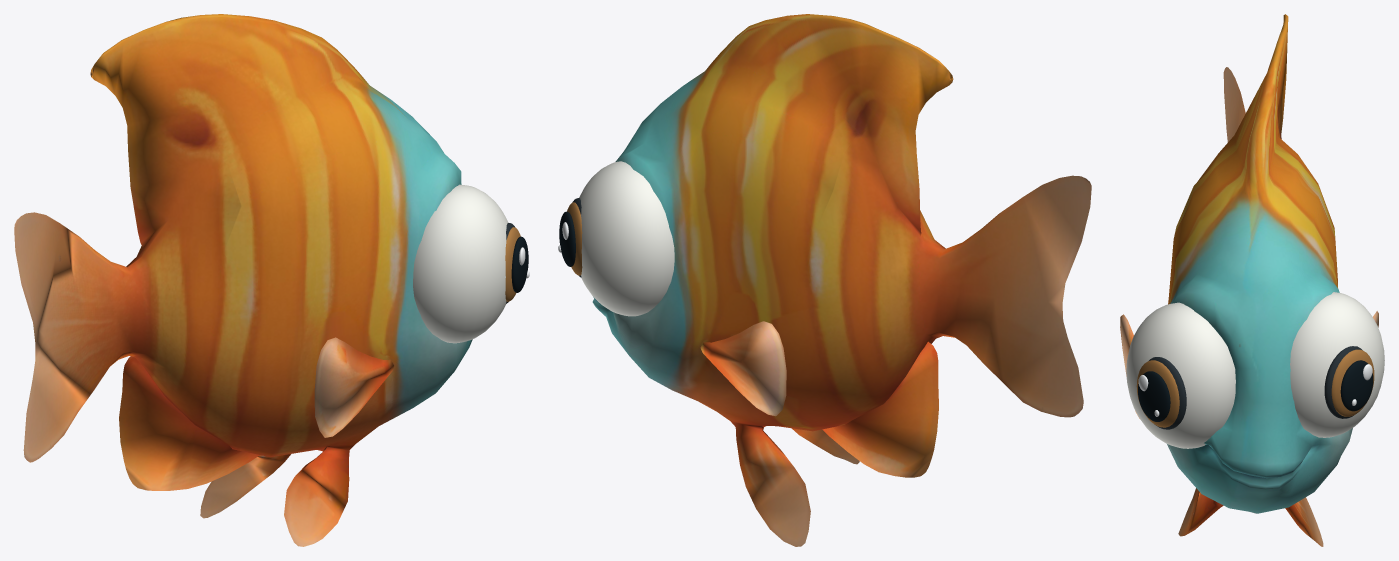
File: fish_02.glb
The picture shows the model from 3 angles, left to right: view 1: azimuth 30°, elevation 25°; view 2: azimuth 150°, elevation 25°; view 3: azimuth 270°, elevation 25°; orthographic projection. The views are drawn at different scales.
Visible parts, largest first — view 1: Tripo Fish 02 • Swim; view 2: Tripo Fish 02 • Swim; view 3: Tripo Fish 02 • Swim.
Boxes of the visible parts, <box> form: Tripo Fish 02 • Swim: <box>14,14,529,546</box>; Tripo Fish 02 • Swim: <box>558,14,1091,546</box>; Tripo Fish 02 • Swim: <box>1120,14,1384,546</box>.
Bounding box in the file's own units: 0.386 × 0.3989 × 0.1958.
6 materials, 1 textured.
